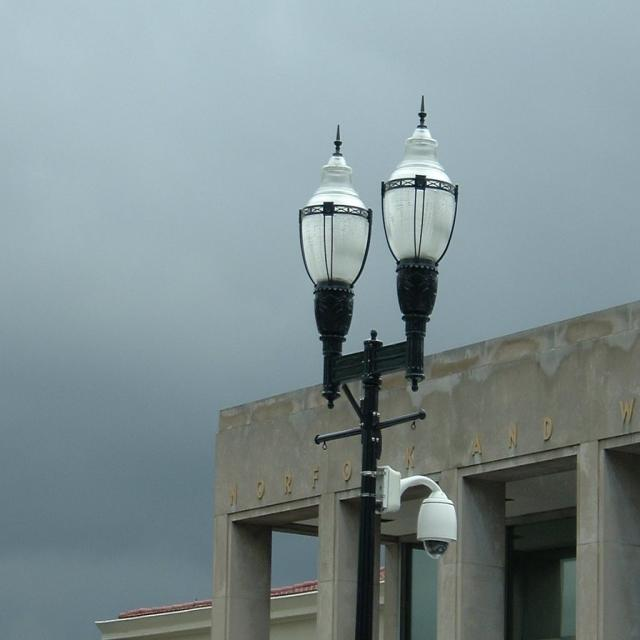Street Light: (299, 96, 459, 640)
